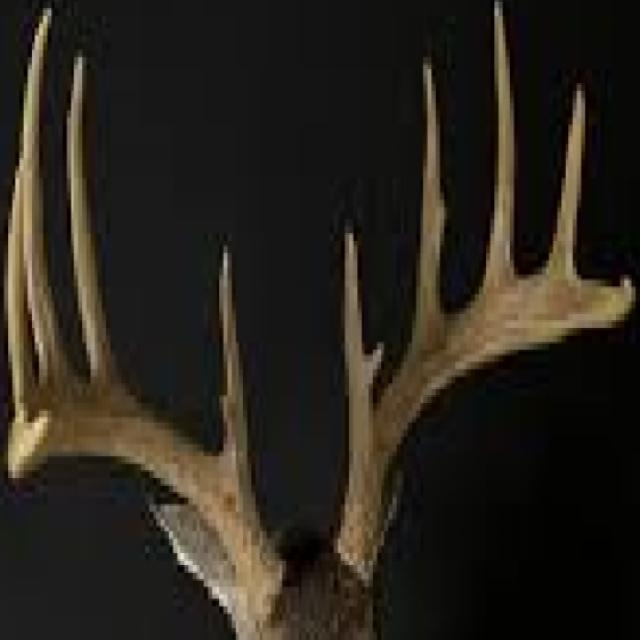E1: (362, 340, 384, 392)
L-F: (332, 272, 636, 591)
L-G1: (343, 225, 373, 458)
L-G2: (412, 58, 448, 340)
L-G3: (482, 1, 516, 289)
L-G4: (542, 79, 587, 278)
R-F: (5, 390, 286, 623)
R-G1: (217, 241, 250, 482)
R-G2: (65, 53, 126, 391)
R-G4: (5, 171, 36, 420)
